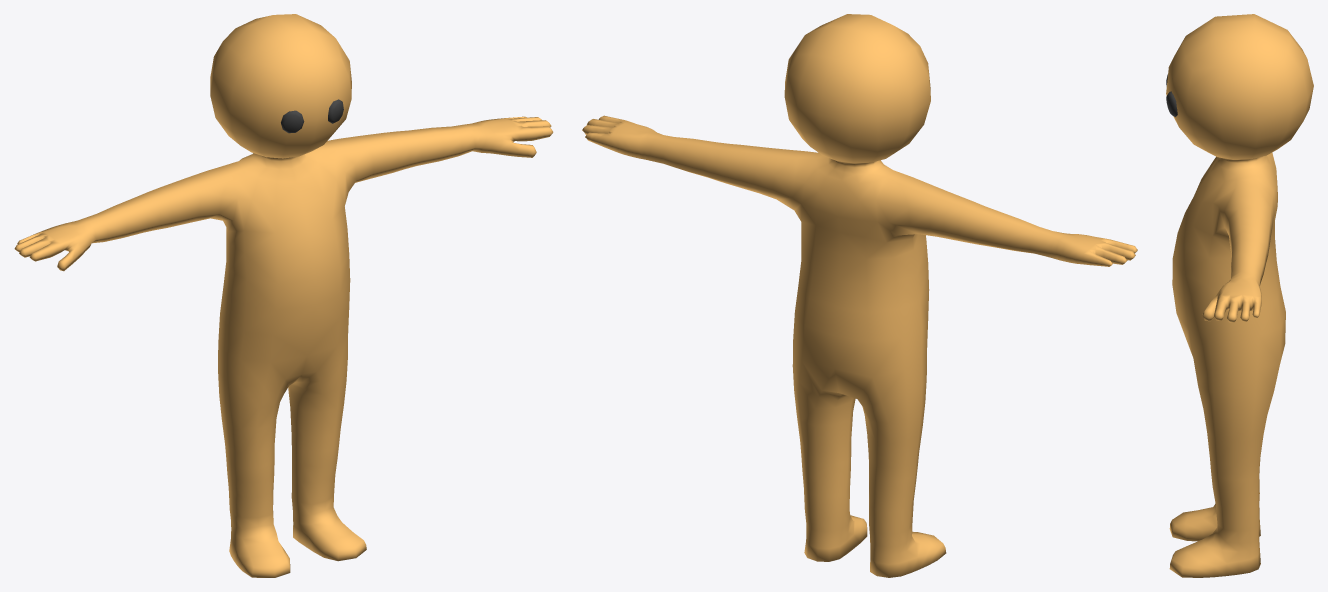
The model's file is Body_Yellow_003.glb.
The picture shows the model from 3 angles, left to right: view 1: azimuth 30°, elevation 25°; view 2: azimuth 150°, elevation 25°; view 3: azimuth 270°, elevation 25°; orthographic projection. The views are drawn at different scales.
Parts seen in each view (by area): view 1: Body_Yellow_003; view 2: Body_Yellow_003; view 3: Body_Yellow_003.
Boxes of the visible parts, x1,y1,x2,y2 form: Body_Yellow_003: (14,14,553,577); Body_Yellow_003: (582,14,1137,577); Body_Yellow_003: (1166,14,1313,577).
Size of the model in its own units: 1.82 by 1.71 by 0.4335.
Materials: 1 (1 with a texture image).
